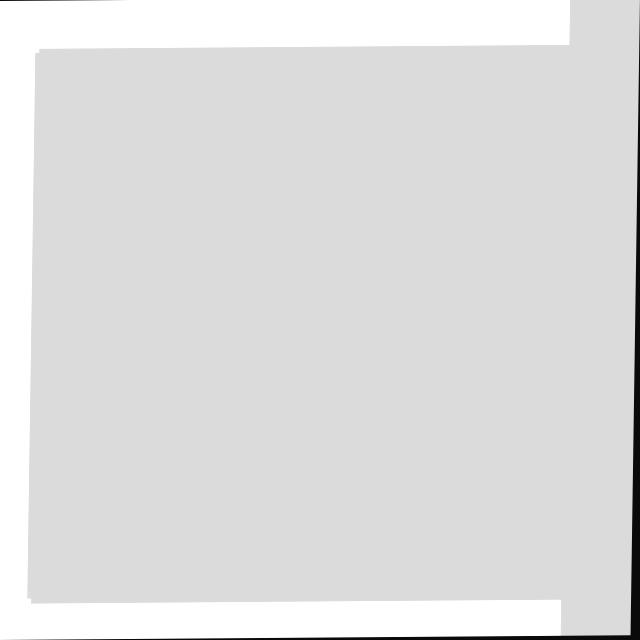qr_code: (31, 47, 588, 601)
